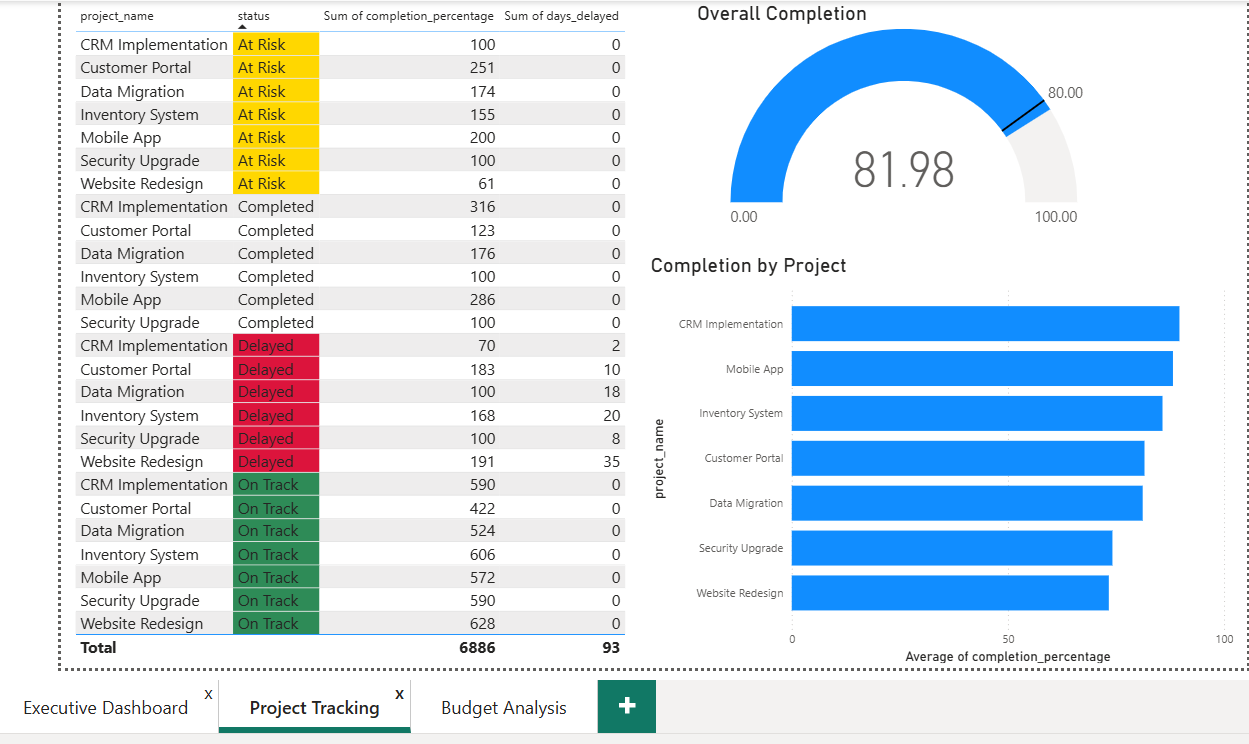

The dashboard page shown, as its layout file describes it:
{"tool":"powerbi","page":{"name":"Project Tracking","canvas":[1280,720],"ordinal":1},"visuals":[{"type":"tableEx","fields":{"Values":["project_tracking.project_name","project_tracking.status","Sum(project_tracking.completion_percentage)","Sum(project_tracking.days_delayed)"]},"box":[9.4,0,604.7,720],"z":0},{"type":"gauge","title":"Overall Completion","fields":{"Y":["Avg(project_tracking.completion_percentage)"]},"box":[682.2,0,461.1,253.2],"z":1000},{"type":"barChart","title":"Completion by Project","fields":{"Category":["project_tracking.project_name"],"Y":["Avg(project_tracking.completion_percentage)"]},"box":[631.2,272.1,638.7,447.9],"z":2000}]}

Visuals, with their boxes on the page's 1280x720 design canvas (x1, y1, x2, y2). These are canvas units, not pixel positions in the 1249x744 screenshot, which may show the page scaled, cropped or inside an application window:
tableEx - project_tracking.project_name x project_tracking.status: l=9, t=0, r=614, b=720
"Overall Completion" gauge: l=682, t=0, r=1143, b=253
"Completion by Project" barChart: l=631, t=272, r=1270, b=720
